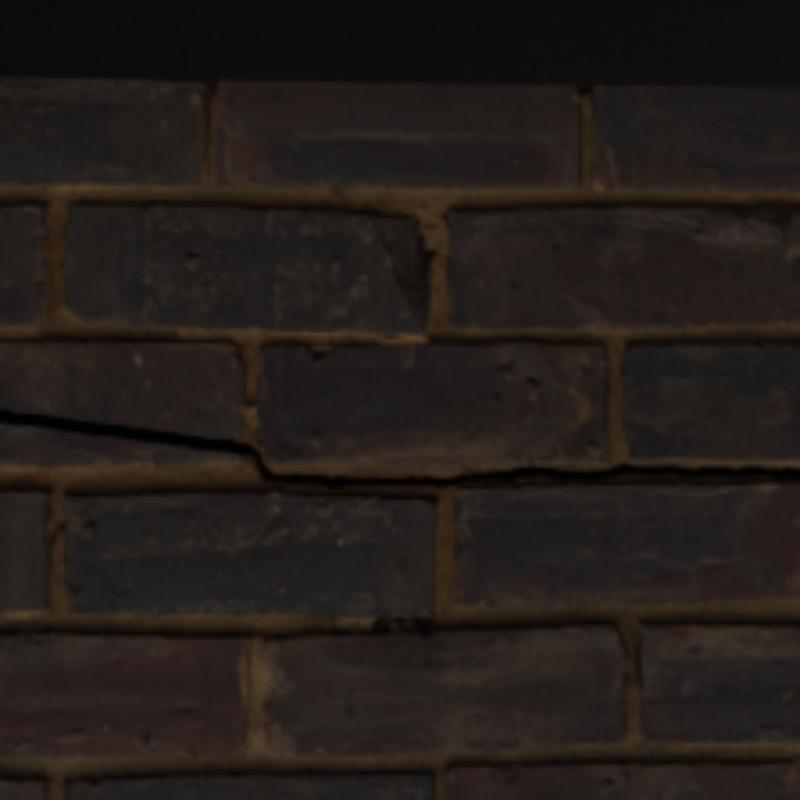pothole: (0, 411, 796, 486)
